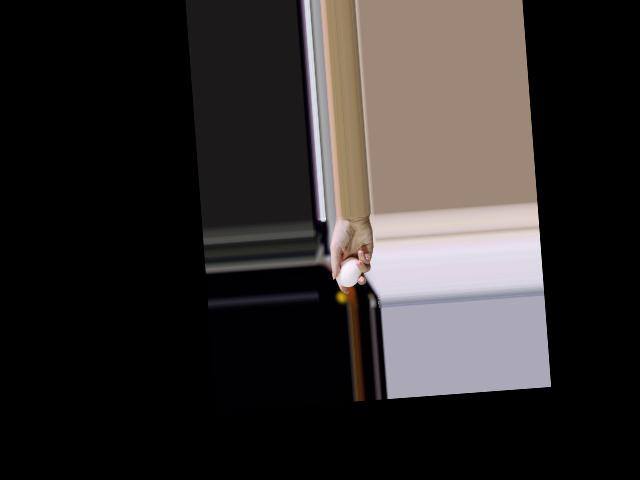egg: (336, 257, 362, 288)
